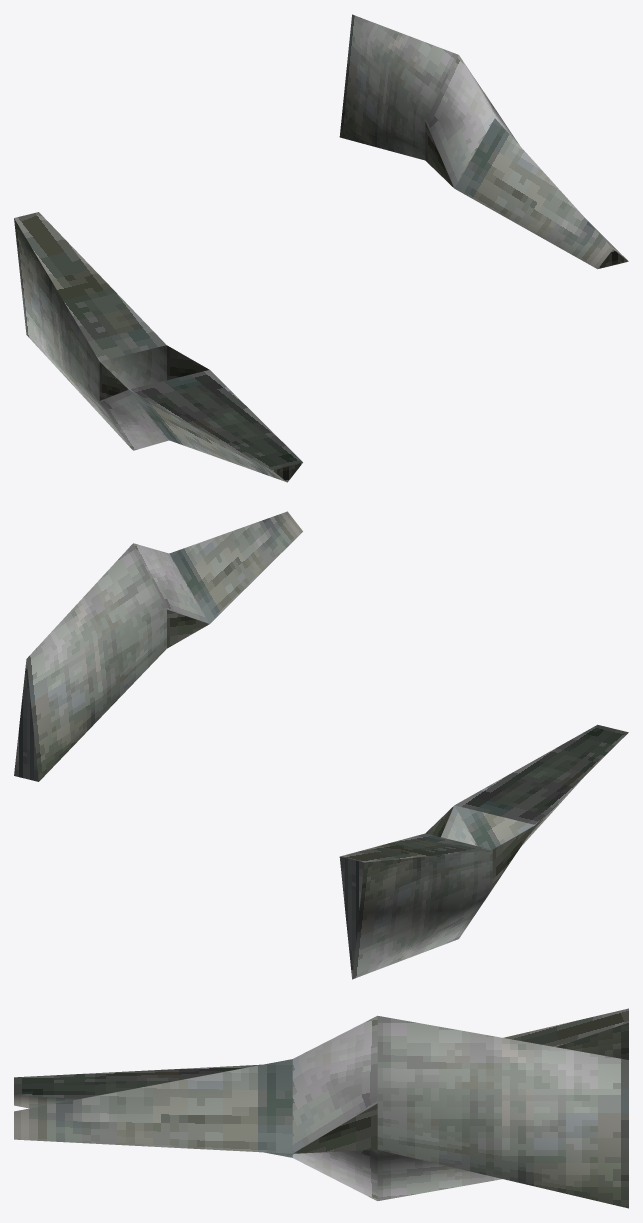
Rendered from xwing_engine_neg_s02_l3.fbx.
3 views of the same model, one above another, from view 1: azimuth 30°, elevation 25°; view 2: azimuth 150°, elevation 25°; view 3: azimuth 270°, elevation 25° (orthographic). The views are drawn at different scales.
Visible parts, largest first — view 1: mesh_node; view 2: mesh_node; view 3: mesh_node.
Part boxes in pixels (box(x1,y1,x2,y2)): mesh_node: box(14, 14, 628, 482); mesh_node: box(14, 511, 628, 979); mesh_node: box(14, 1008, 628, 1208).
Bounding box in the file's own units: 4.34 × 3.22 × 4.82.
Materials: 1 (1 with a texture image).
